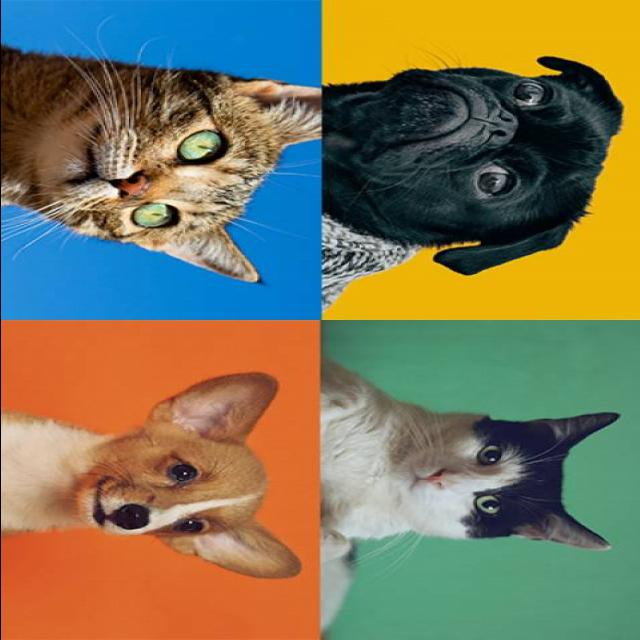cat: (0, 44, 320, 288), (314, 383, 637, 555)
dog: (322, 43, 633, 287), (8, 360, 294, 612)
